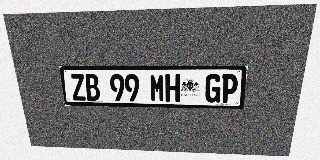9: (109, 74, 125, 101), (124, 74, 140, 101)
B: (84, 74, 101, 101)
G: (205, 74, 222, 103)
H: (165, 74, 180, 102)
M: (150, 74, 165, 102)
P: (220, 74, 239, 103)
Z: (70, 74, 87, 101)
